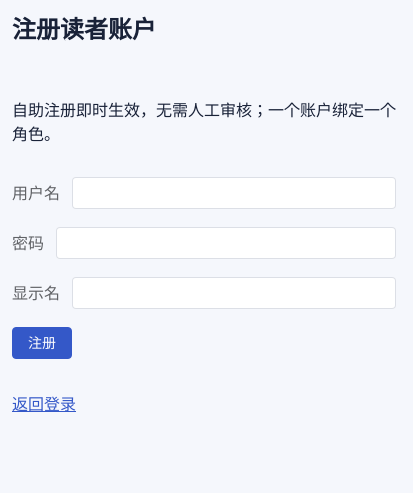
Scenario: RegisterView › presents duplicate-username conflicts without hiding the form
In the field with test id "register-username": coordinates (234, 193) [83,178,385,208], type "reader01"
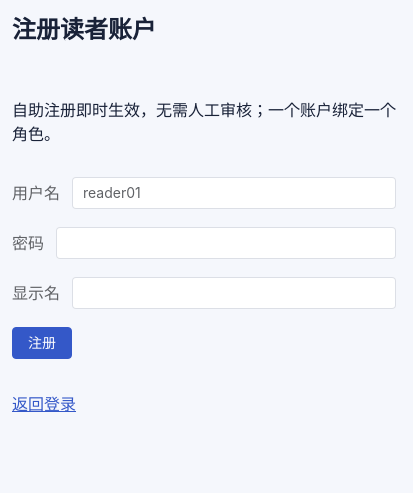
In the password field with test id "register-password": coordinates (226, 243) [67,228,385,258], type "password1"
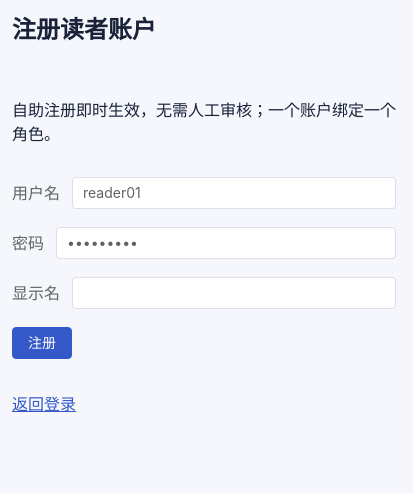
In the field with test id "register-display-name": coordinates (234, 293) [83,278,385,308], type "Reader 01"
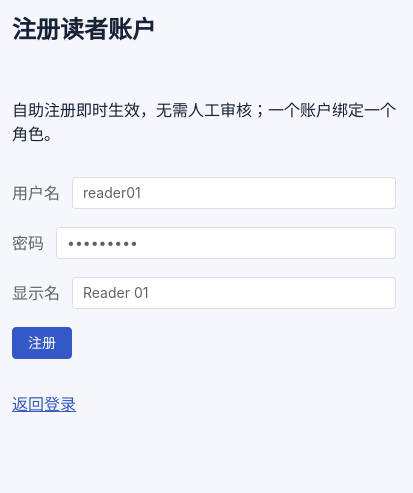
Submit the form with test id "register-form", box [12,177,396,359]
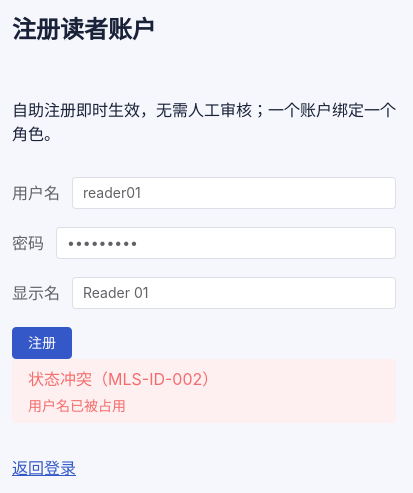
Check: the element with test id "error-alert" shows "MLS-ID-002", box [28,369,218,389]
